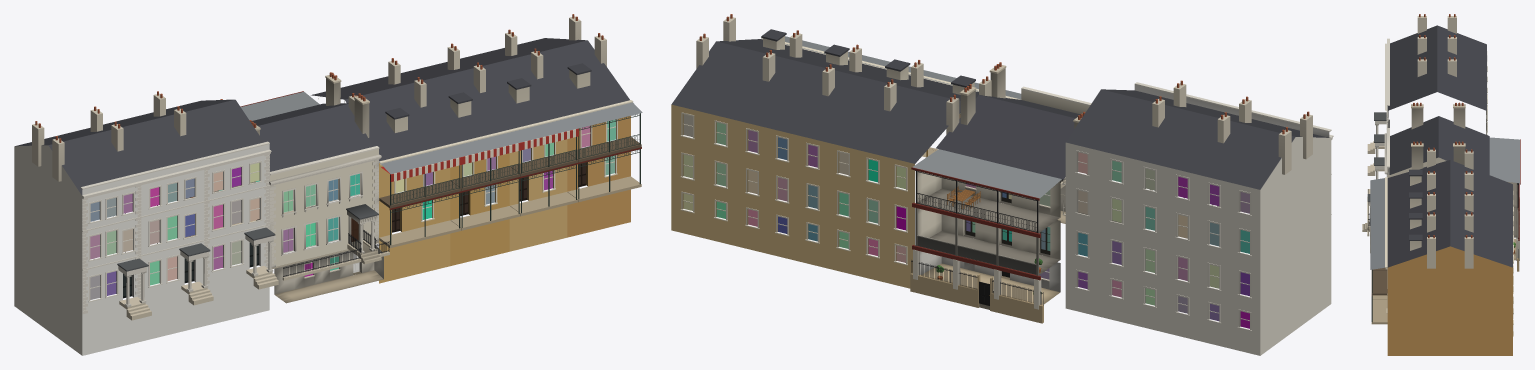
File: lfs-west.glb
3 views of the same model, side by side, from view 1: azimuth 30°, elevation 25°; view 2: azimuth 150°, elevation 25°; view 3: azimuth 270°, elevation 25° (orthographic). The views are drawn at different scales.
Parts seen in each view (by area): view 1: house61-plaster, house59-plaster, house57-plaster, front-plaster, house47-plaster, roof-roof, house53-plaster, house47-roof, front-stone, house53-roof, house51-roof, house51-plaster (+38 smaller); view 2: house61-plaster, house57-plaster, house59-plaster, house47-plaster, roof-roof, house51-plaster, house49-plaster, house53-plaster, house47-roof, house51-roof, house49-roof, house53-roof (+31 smaller); view 3: house47-plaster, roof-roof, house47-roof, house53-roof, house51-roof, house57-roof, house49-roof, house59-roof, house61-roof, verandahs-metal, roof-plaster, house47-stone (+18 smaller).
Part boxes in pixels (bbox=[...]): house61-plaster: bbox=[14, 123, 141, 355]; house59-plaster: bbox=[90, 109, 203, 341]; house57-plaster: bbox=[153, 93, 269, 326]; front-plaster: bbox=[270, 149, 378, 266]; house47-plaster: bbox=[505, 16, 630, 237]; roof-roof: bbox=[220, 72, 372, 171]; house53-plaster: bbox=[334, 75, 450, 283]; house47-roof: bbox=[482, 14, 629, 115]; front-stone: bbox=[269, 146, 389, 280]; house53-roof: bbox=[311, 72, 449, 161]; house51-roof: bbox=[365, 58, 508, 143]; house51-plaster: bbox=[388, 60, 509, 265]; house61-plaster: bbox=[1199, 114, 1331, 355]; house57-plaster: bbox=[1065, 83, 1202, 324]; house59-plaster: bbox=[1133, 99, 1268, 340]; house47-plaster: bbox=[671, 16, 802, 246]; roof-roof: bbox=[936, 62, 1085, 179]; house51-plaster: bbox=[797, 62, 927, 275]; house49-plaster: bbox=[737, 47, 861, 260]; house53-plaster: bbox=[859, 79, 991, 288]; house47-roof: bbox=[671, 14, 825, 120]; house51-roof: bbox=[797, 59, 947, 150]; house49-roof: bbox=[738, 44, 885, 134]; house53-roof: bbox=[859, 75, 988, 163]; house47-plaster: bbox=[1387, 214, 1512, 355]; roof-roof: bbox=[1390, 102, 1489, 174]; house47-roof: bbox=[1387, 212, 1512, 267]; house53-roof: bbox=[1387, 147, 1512, 203]; house51-roof: bbox=[1387, 171, 1512, 224]; house57-roof: bbox=[1387, 57, 1486, 110]; house49-roof: bbox=[1387, 192, 1512, 244]; house59-roof: bbox=[1390, 35, 1486, 87]; house61-roof: bbox=[1390, 14, 1486, 64]; verandahs-metal: bbox=[1489, 137, 1519, 183]; roof-plaster: bbox=[1387, 108, 1465, 177]; house47-stone: bbox=[1371, 244, 1513, 336].
Size of the model in its own units: 55.6 by 19.25 by 18.86.
